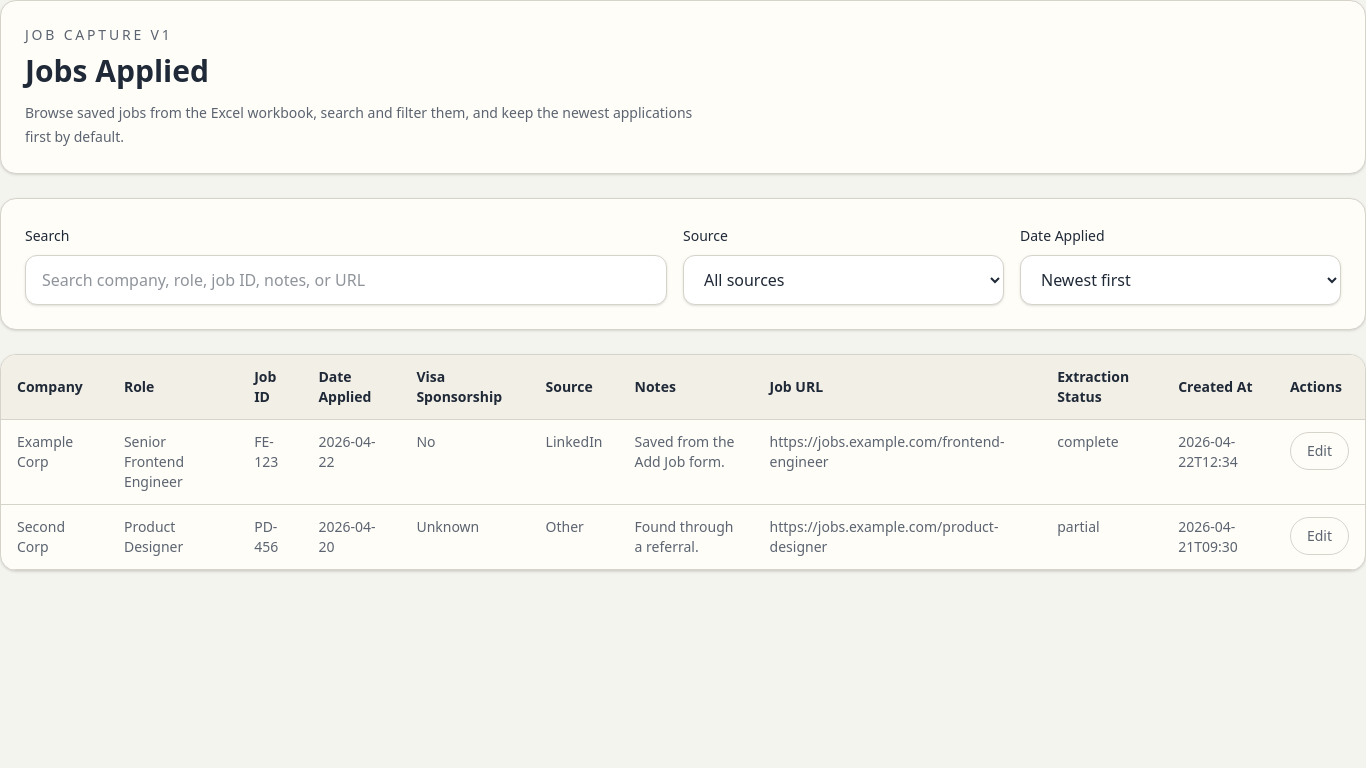
Test case: JobsPage › filters the table by source
Expected: the text "Example Corp" is shown, [1,420,108,504]
Select "Other" in the dropdown labelled "Source". click: [844, 280]
box: [683,255,1004,305]
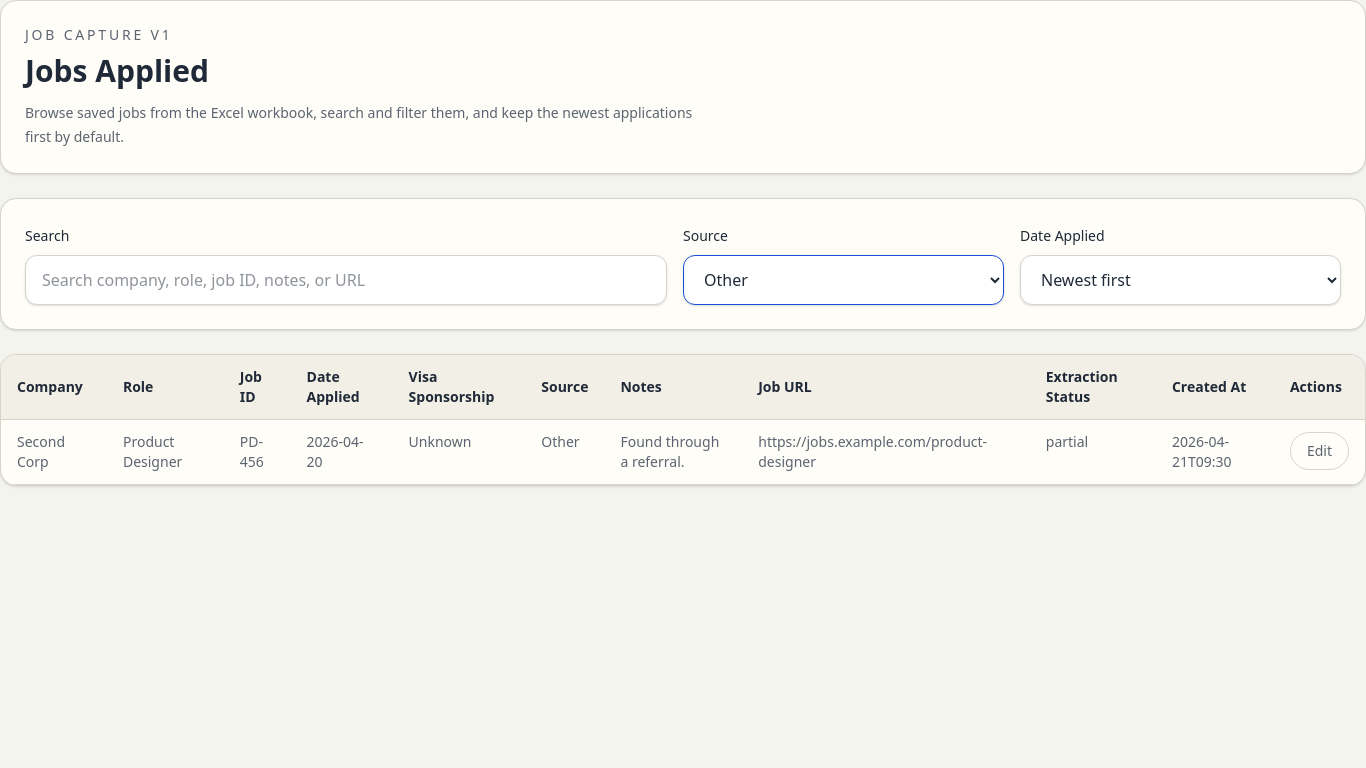
Expected: the text "Second Corp" is shown, [1,420,107,484]
Now the text "Example Corp" is gone
